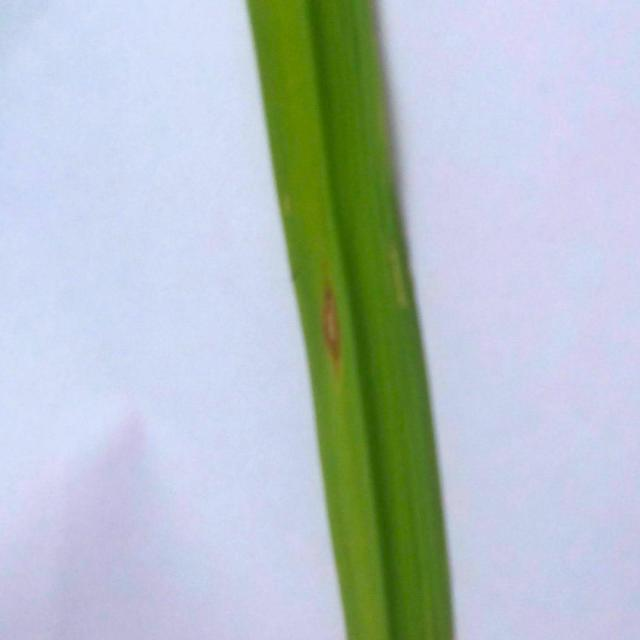Leaf_Blast: (306, 260, 354, 384)
